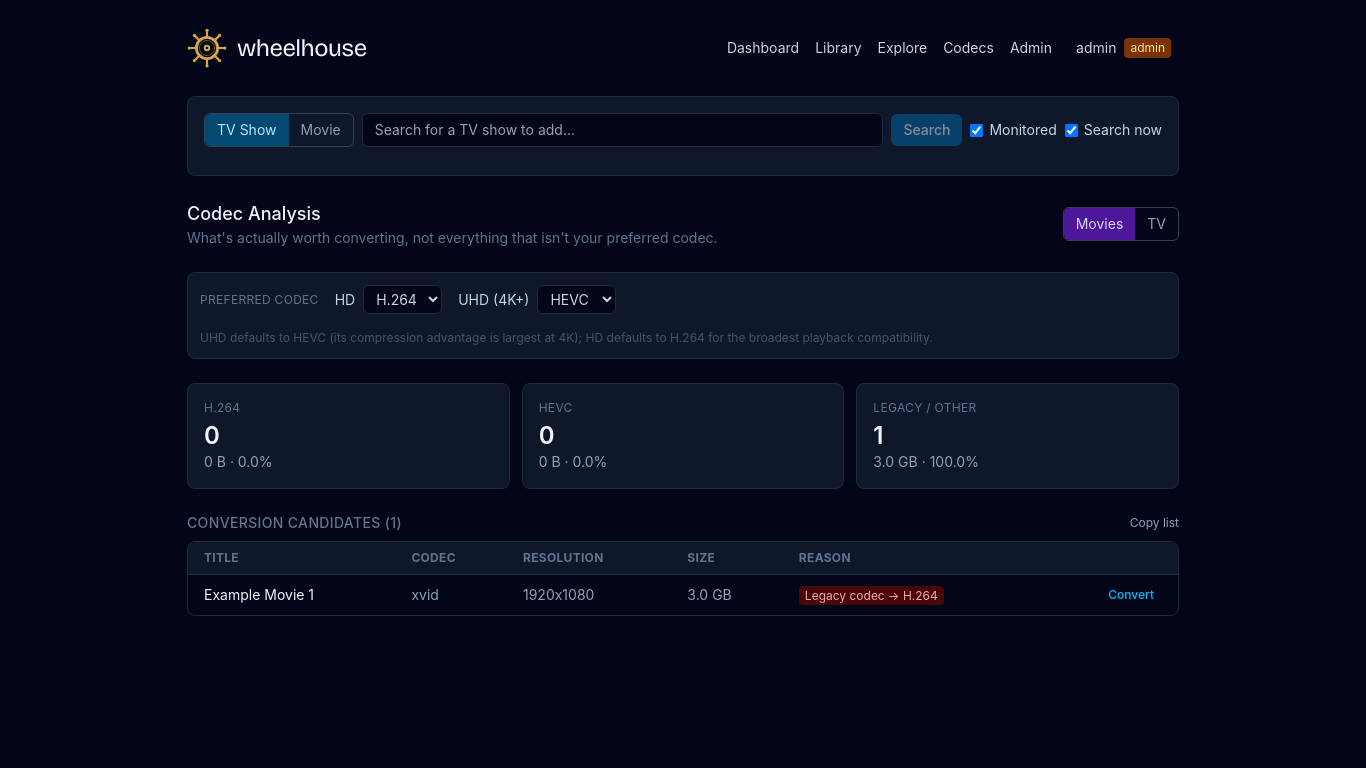
Test: Codecs › HDR and Dolby Vision › shows the refusal when HDR conversion is not allowed
The image size is (1366, 768).
Click the button "Convert": [1131, 595] box top-left (1100, 583), bottom-right (1162, 607)
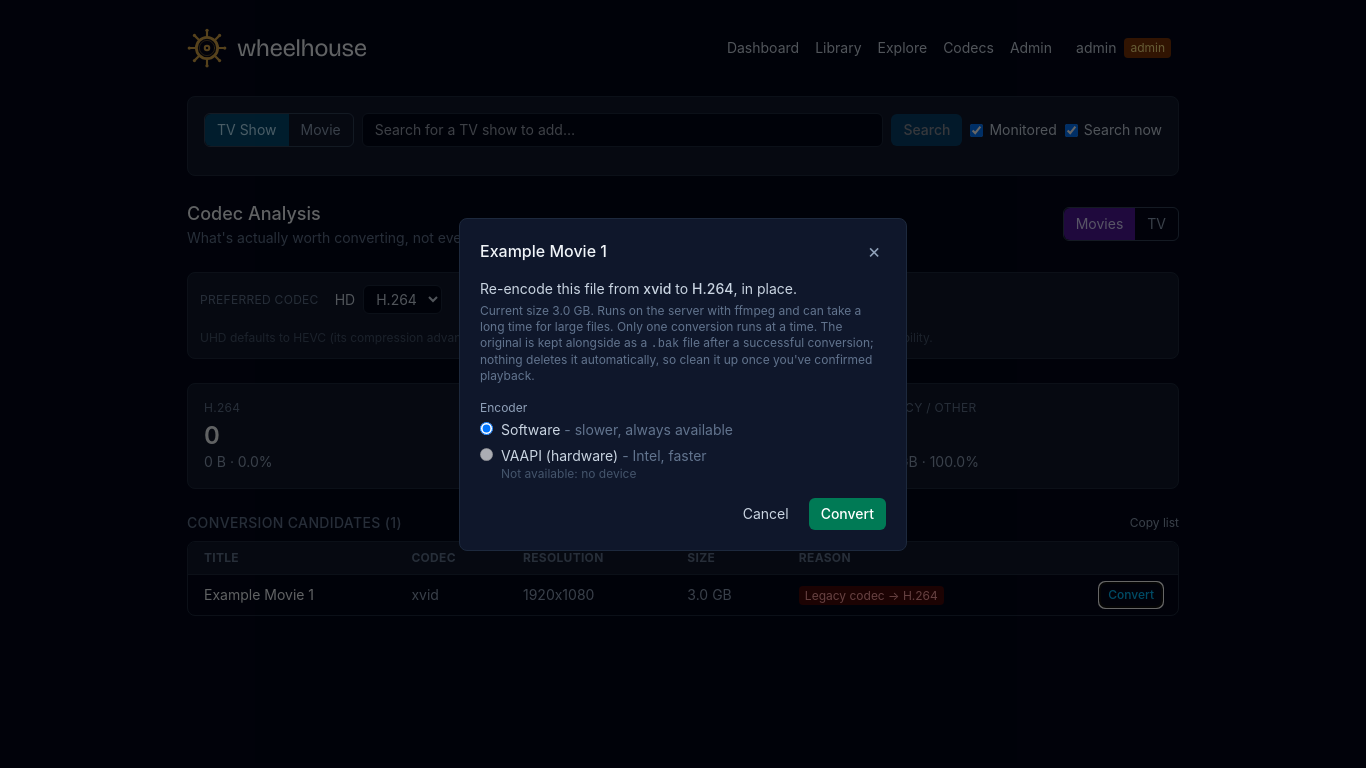
Click the button "Convert": [847, 514] box top-left (809, 498), bottom-right (886, 530)
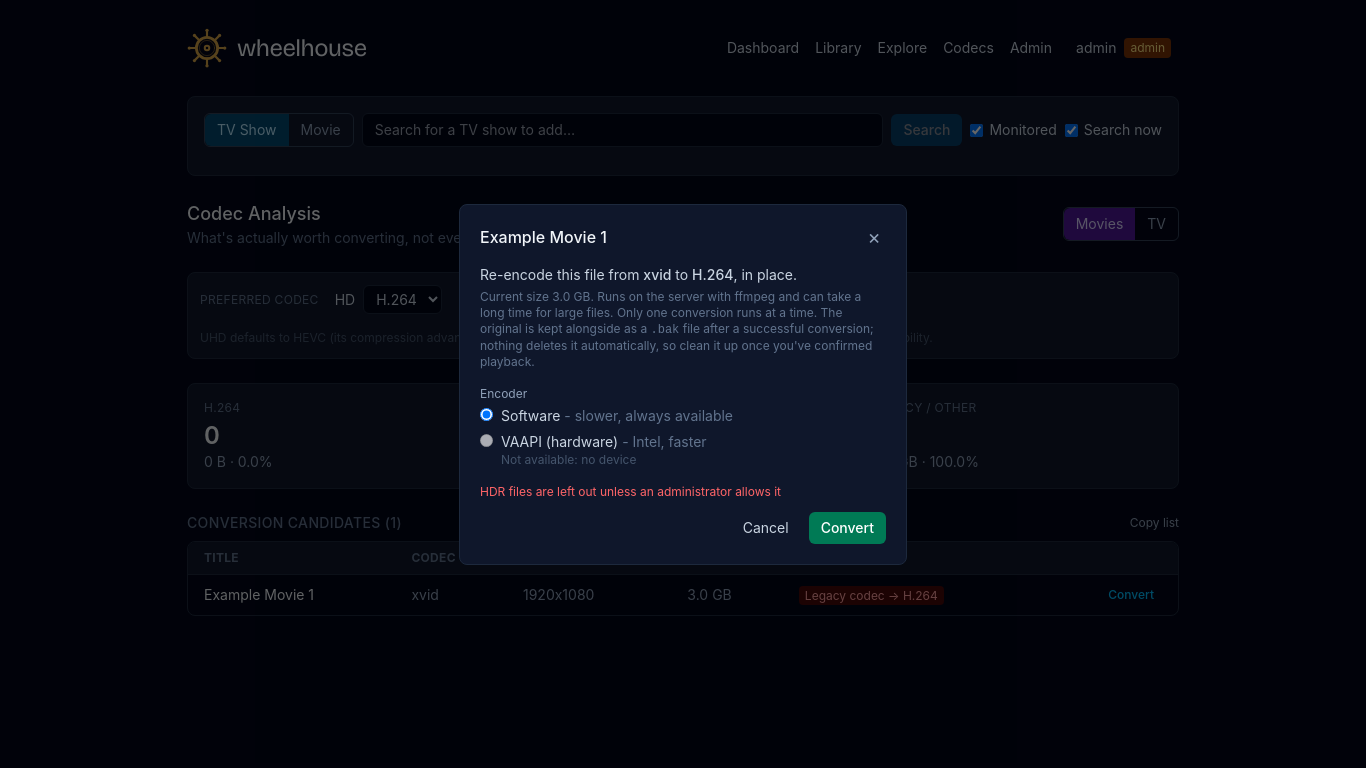
Now the text "HDR files are left out unless an administrator allows it" is shown, box top-left (480, 484), bottom-right (781, 498)
